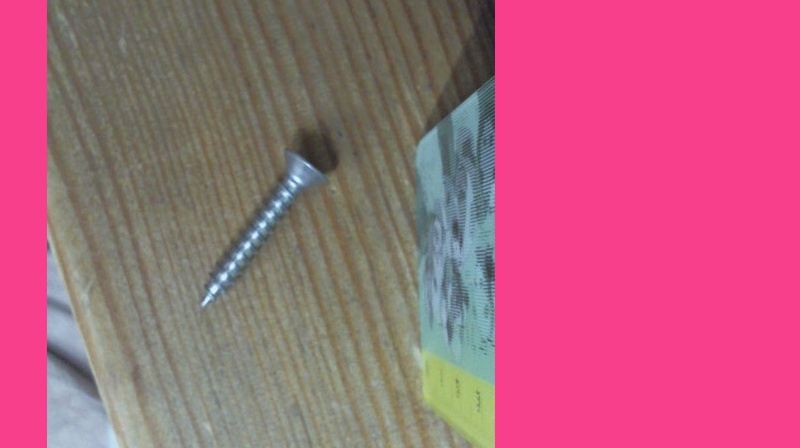S001: (194, 142, 332, 312)
